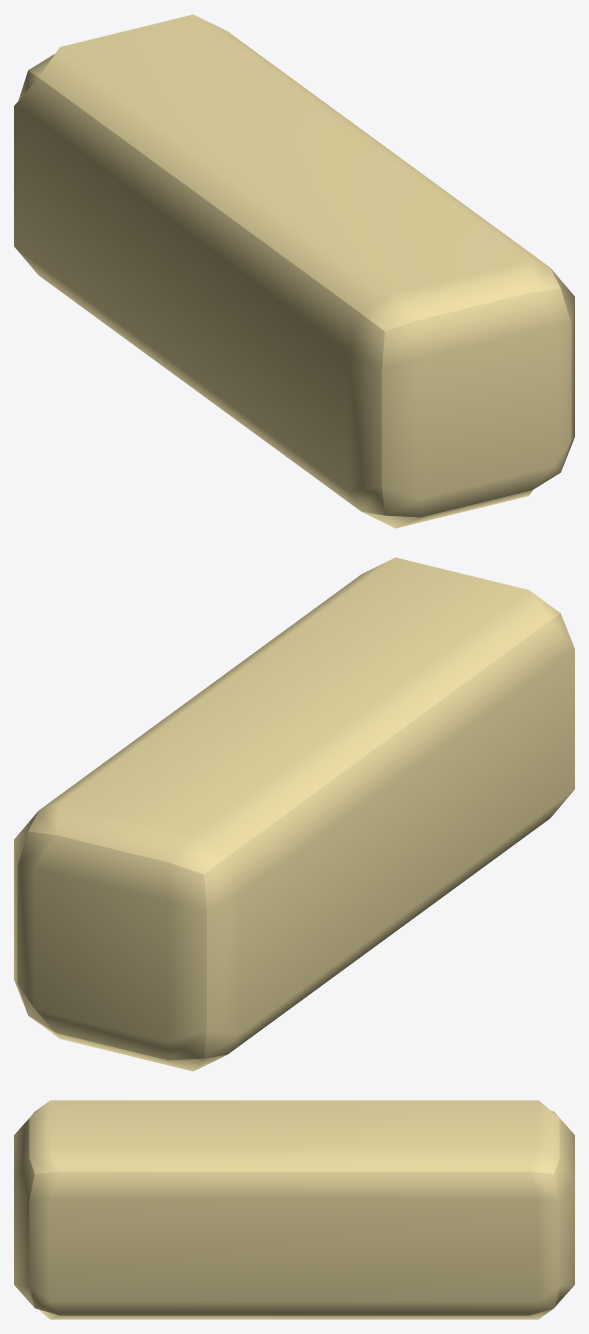
The model's file is Butter_MDL.fbx.
3 renders of one model, top to bottom at view 1: azimuth 30°, elevation 25°; view 2: azimuth 150°, elevation 25°; view 3: azimuth 270°, elevation 25°, orthographic. The views are drawn at different scales.
Parts seen in each view (by area): view 1: butter; view 2: butter; view 3: butter.
Boxes of the visible parts, <box> form: butter: <box>14,14,574,528</box>; butter: <box>14,557,574,1071</box>; butter: <box>14,1100,574,1319</box>.
Bounding box in the file's own units: 6.12 × 6.12 × 18.12.
